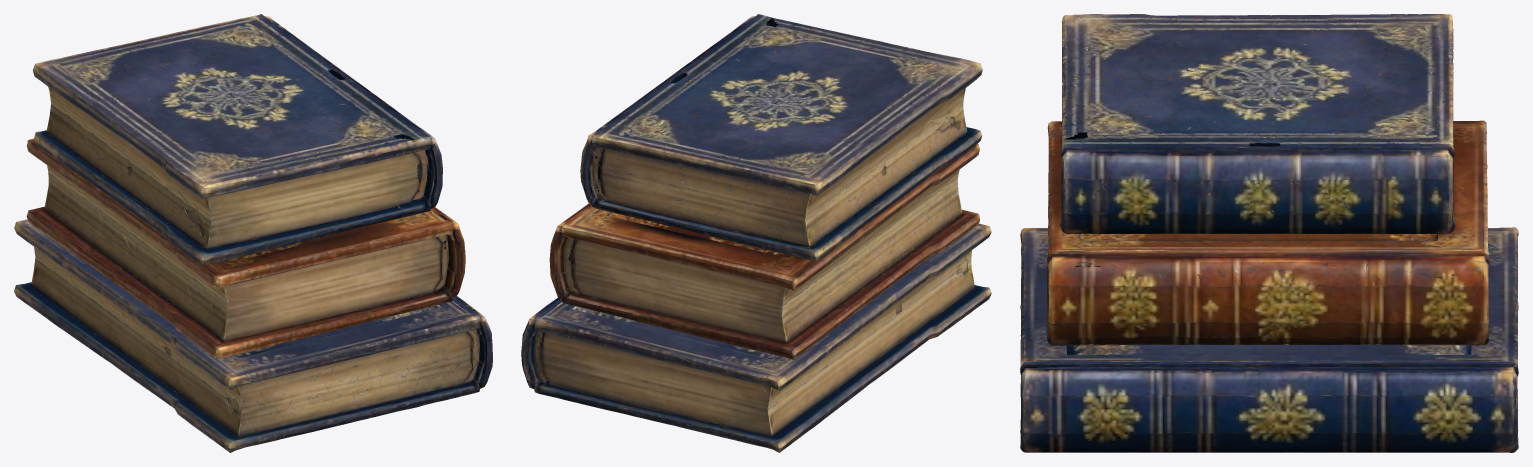
Rendered from dress-books.glb.
3 views of the same model, side by side, from view 1: azimuth 30°, elevation 25°; view 2: azimuth 150°, elevation 25°; view 3: azimuth 270°, elevation 25° (orthographic). The views are drawn at different scales.
Size of the model in its own units: 0.7348 by 0.651 by 0.9998.
Materials: 1 (1 with a texture image).
